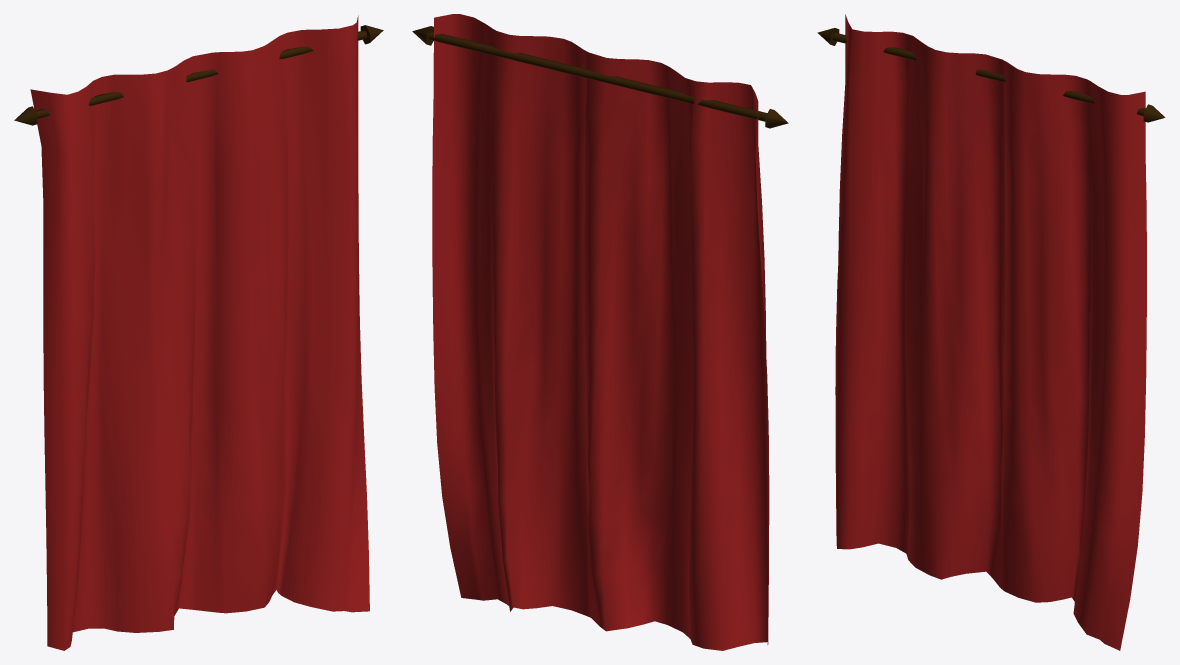
Rendered from Flag.fbx.
The picture shows the model from 3 angles, left to right: view 1: azimuth 30°, elevation 25°; view 2: azimuth 150°, elevation 25°; view 3: azimuth 330°, elevation 25°; orthographic projection. The views are drawn at different scales.
Visible parts, largest first — view 1: carpet, metal_handle; view 2: carpet, metal_handle; view 3: carpet, metal_handle.
Boxes of the visible parts, left/top/right/bottom form: carpet: left=30, top=15, right=369, bottom=650; metal_handle: left=14, top=25, right=383, bottom=125; carpet: left=432, top=14, right=769, bottom=650; metal_handle: left=412, top=26, right=788, bottom=128; carpet: left=835, top=14, right=1146, bottom=650; metal_handle: left=817, top=28, right=1165, bottom=122.
Size of the model in its own units: 91.38 by 137 by 10.45.
